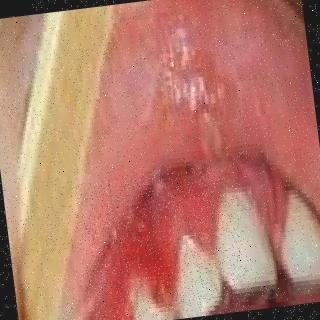Gum Swelling: (106, 223, 170, 315)
